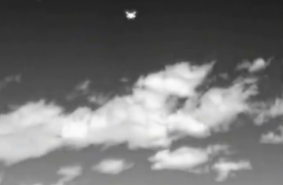Target: (127, 12, 136, 18)
